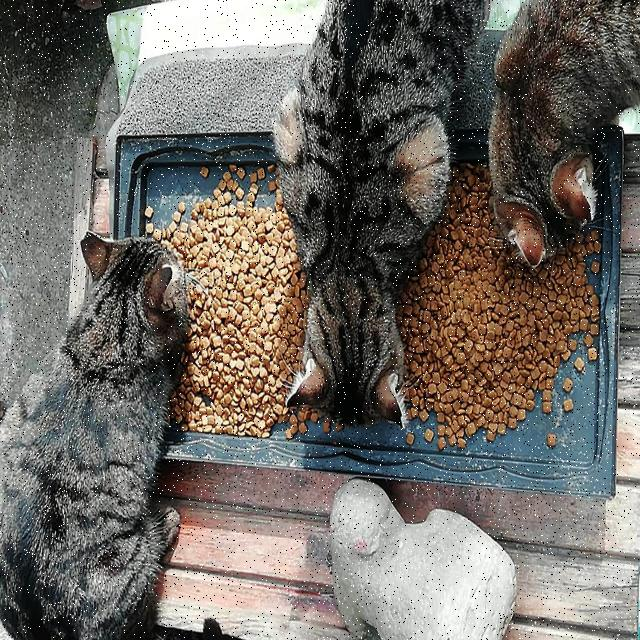cat: (272, 2, 485, 424), (0, 234, 189, 638), (489, 0, 640, 265)
